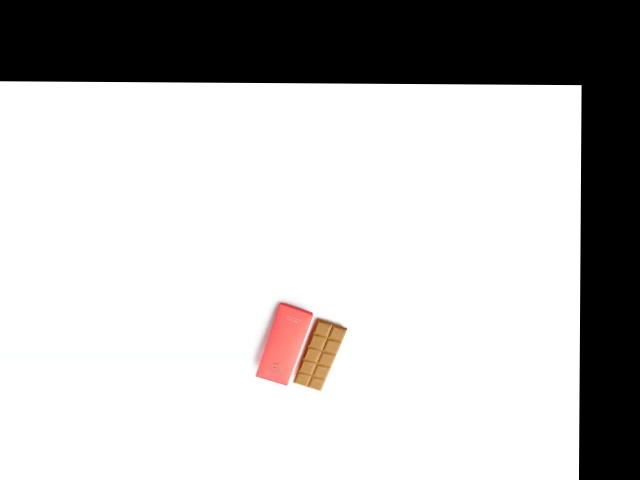chocolate: (289, 314, 347, 392)
